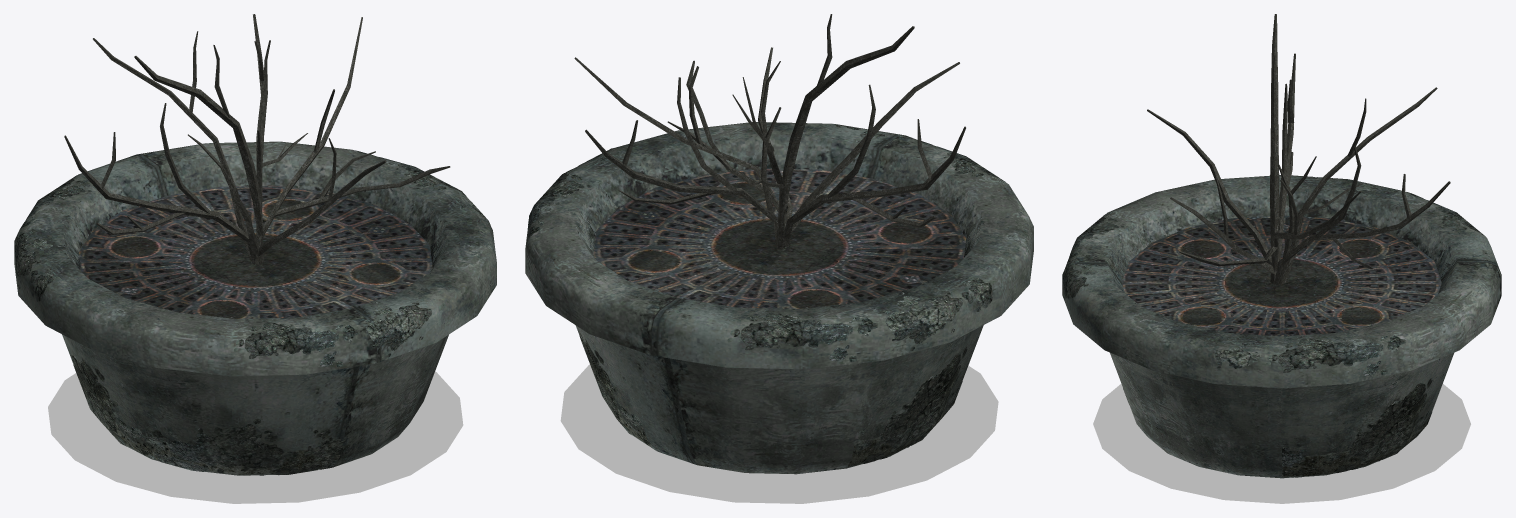
The model's file is CementPlanter01Bush.FBX.
The picture shows the model from 3 angles, left to right: view 1: azimuth 30°, elevation 25°; view 2: azimuth 150°, elevation 25°; view 3: azimuth 270°, elevation 25°; orthographic projection. The views are drawn at different scales.
Parts seen in each view (by area): view 1: CementPlanterRd01Bush:24, CementPlanterRd01Bush:69, CementPlanterRd01Bush:73, CementPlanterRd01Bush:15, CementPlanterRd01Bush:6; view 2: CementPlanterRd01Bush:24, CementPlanterRd01Bush:69, CementPlanterRd01Bush:73, CementPlanterRd01Bush:15, CementPlanterRd01Bush:6; view 3: CementPlanterRd01Bush:24, CementPlanterRd01Bush:69, CementPlanterRd01Bush:73, CementPlanterRd01Bush:15, CementPlanterRd01Bush:6.
Boxes of the visible parts, x1=… form: CementPlanterRd01Bush:24: x1=14, y1=141, x2=496, y2=475; CementPlanterRd01Bush:69: x1=79, y1=185, x2=432, y2=318; CementPlanterRd01Bush:73: x1=48, y1=371, x2=463, y2=503; CementPlanterRd01Bush:15: x1=14, y1=150, x2=490, y2=475; CementPlanterRd01Bush:6: x1=64, y1=14, x2=450, y2=265; CementPlanterRd01Bush:24: x1=525, y1=122, x2=1033, y2=474; CementPlanterRd01Bush:69: x1=593, y1=168, x2=966, y2=308; CementPlanterRd01Bush:73: x1=560, y1=364, x2=998, y2=503; CementPlanterRd01Bush:15: x1=527, y1=124, x2=1005, y2=467; CementPlanterRd01Bush:6: x1=574, y1=14, x2=965, y2=248; CementPlanterRd01Bush:24: x1=1062, y1=175, x2=1501, y2=478; CementPlanterRd01Bush:69: x1=1122, y1=215, x2=1441, y2=336; CementPlanterRd01Bush:73: x1=1093, y1=383, x2=1470, y2=503; CementPlanterRd01Bush:15: x1=1062, y1=175, x2=1485, y2=477; CementPlanterRd01Bush:6: x1=1147, y1=14, x2=1450, y2=285.
Bounding box in the file's own units: 1.53 × 1.36 × 1.53.
